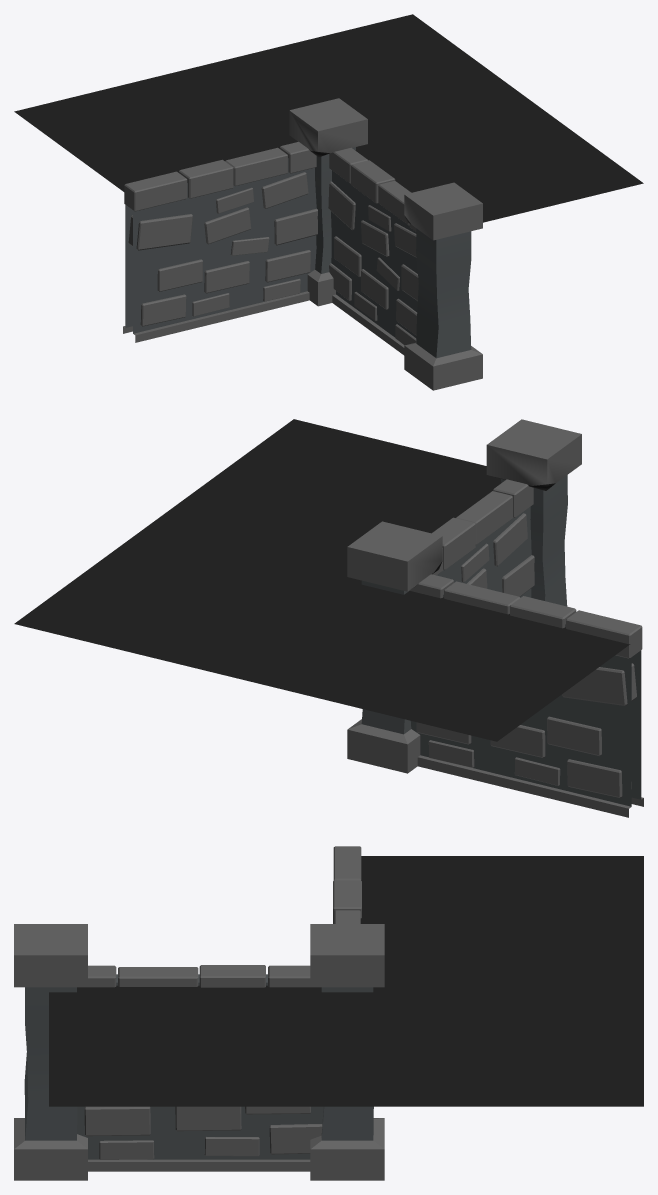
File: WallInner.fbx
The picture shows the model from 3 angles, top to bottom: view 1: azimuth 30°, elevation 25°; view 2: azimuth 150°, elevation 25°; view 3: azimuth 270°, elevation 25°; orthographic projection. The views are drawn at different scales.
Parts seen in each view (by area): view 1: WallInnerCorner; view 2: WallInnerCorner; view 3: WallInnerCorner.
Boxes of the visible parts, x1,y1,x2,y2 form: WallInnerCorner: [14, 14, 643, 390]; WallInnerCorner: [14, 419, 643, 817]; WallInnerCorner: [14, 846, 643, 1180].
Bounding box in the file's own units: 8 × 3.35 × 8.5.
1 material, 1 textured.
